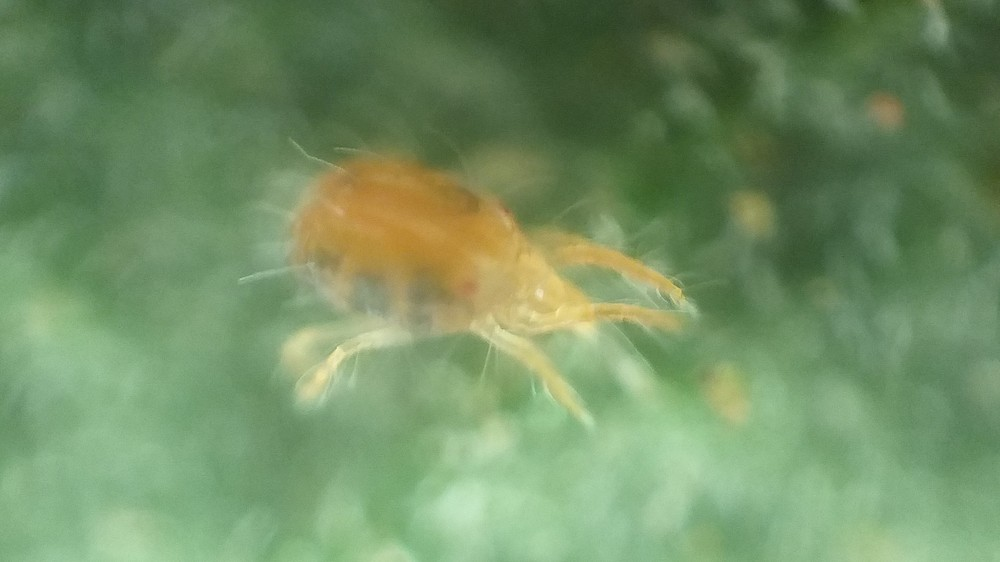Aracnido Rojo: (211, 127, 726, 433)
